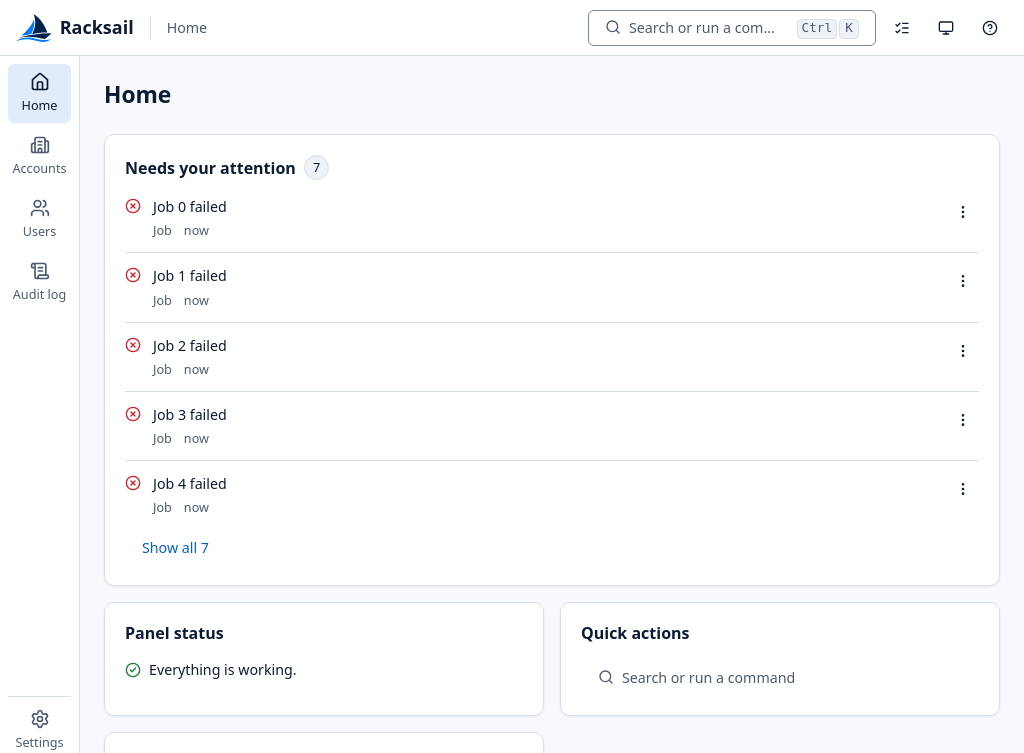
Test: the attention inbox › shows the first few and the rest when asked
The image size is (1024, 753).
Expected: the text "Job 0 failed" is shown, x1=152 y1=196 x2=227 y2=216
Expected: the text "Job 6 failed" is not shown
Click the button "Show all 7".
click(175, 547)  # box x1=125 y1=529 x2=226 y2=565
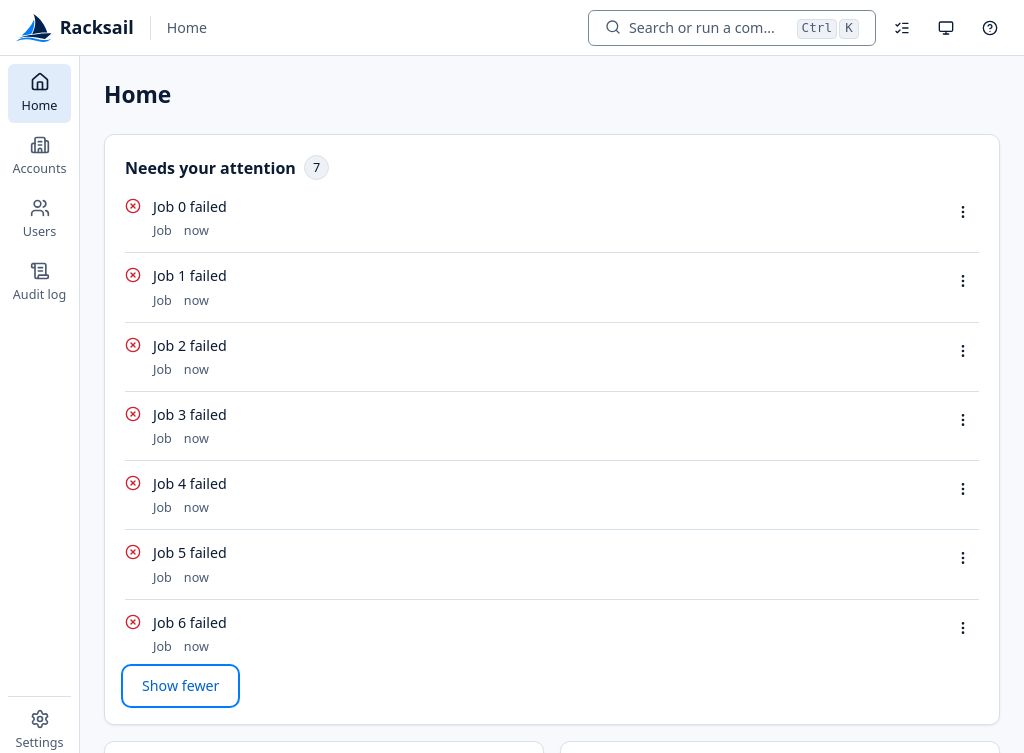
Expected: the text "Job 6 failed" is shown, x1=152 y1=612 x2=227 y2=632
Expected: the button "Show fewer" is expanded, x1=125 y1=668 x2=236 y2=704
